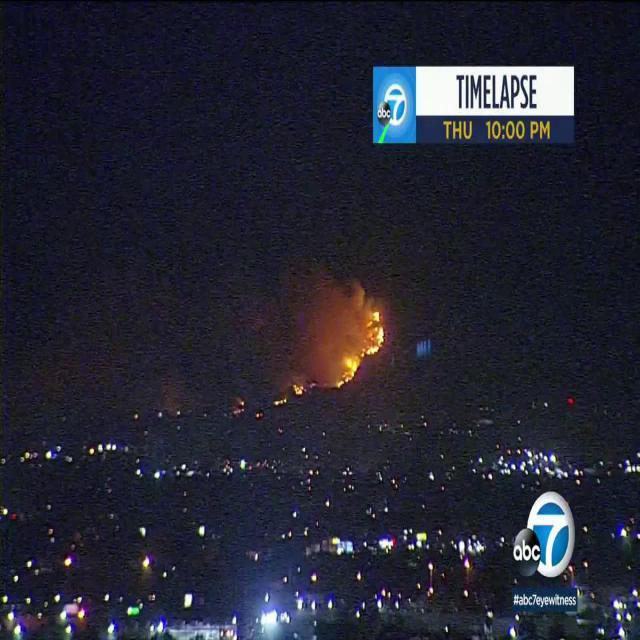Fire: (336, 313, 384, 384), (293, 383, 303, 396), (274, 398, 286, 404), (240, 398, 244, 406)
